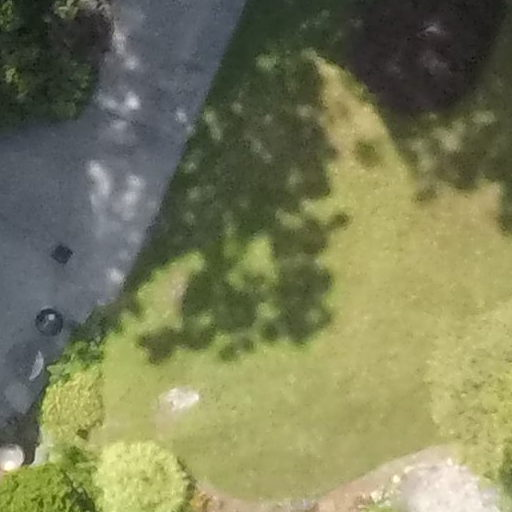container: (30, 303, 67, 339)
